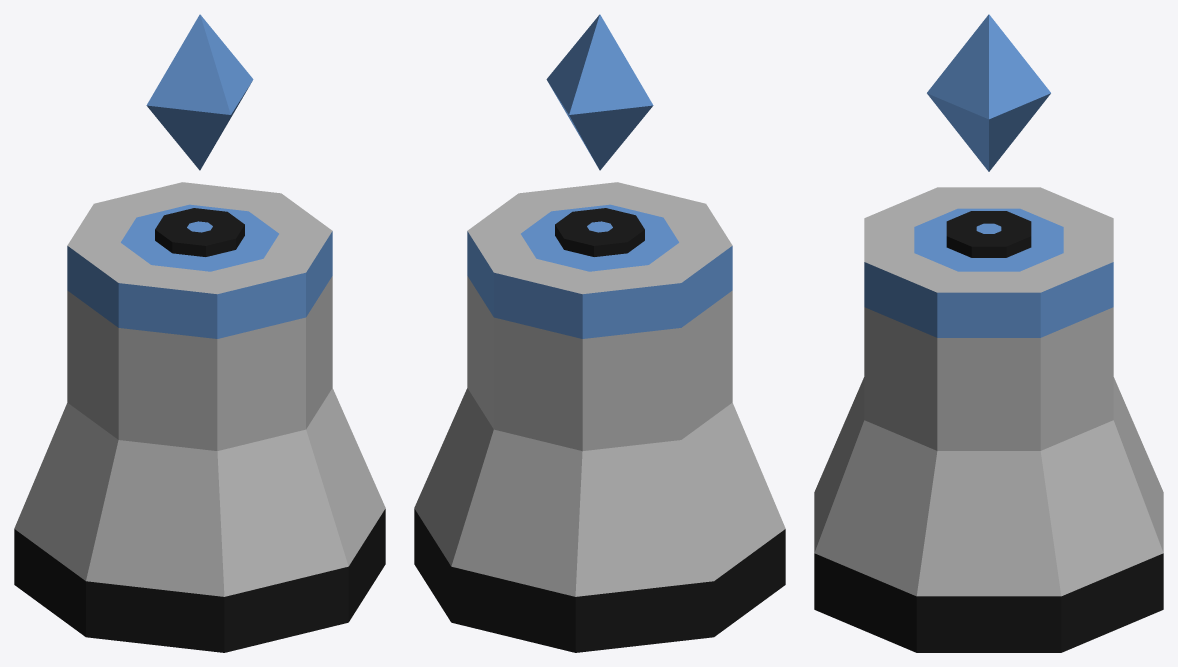
Rendered from Mages_Water.fbx.
The picture shows the model from 3 angles, left to right: view 1: azimuth 30°, elevation 25°; view 2: azimuth 150°, elevation 25°; view 3: azimuth 270°, elevation 25°; orthographic projection.
Parts seen in each view (by area): view 1: Mages_Water; view 2: Mages_Water; view 3: Mages_Water.
Boxes of the visible parts, bbox=[...] form: Mages_Water: bbox=[14, 14, 385, 652]; Mages_Water: bbox=[414, 14, 785, 652]; Mages_Water: bbox=[814, 14, 1163, 652].
Bounding box in the file's own units: 140 × 250 × 140.
